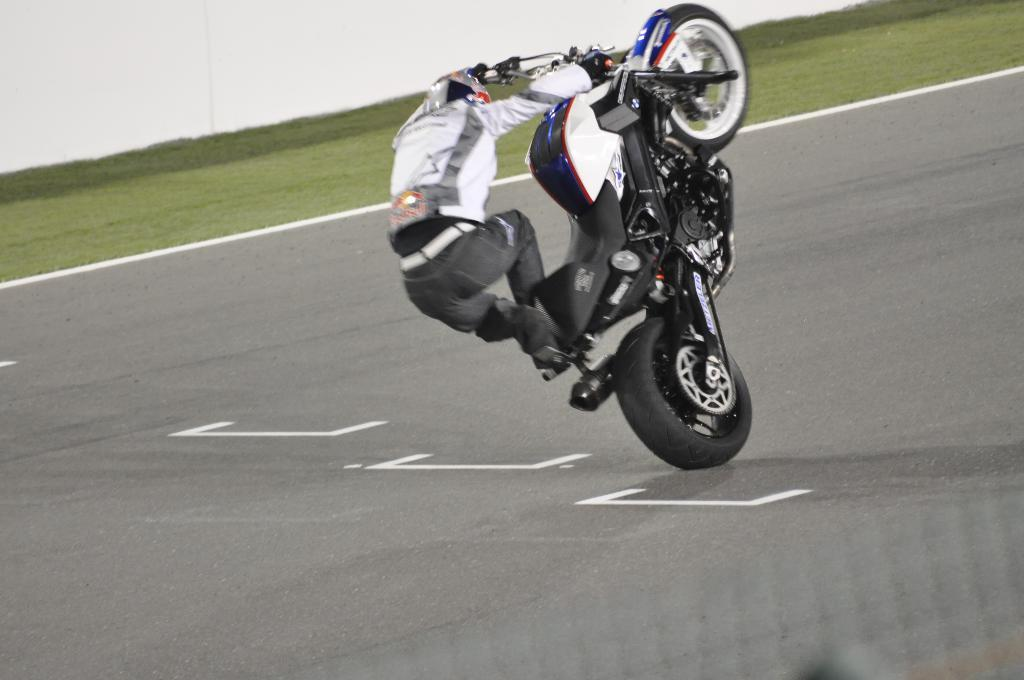helmet: (422, 71, 495, 137)
